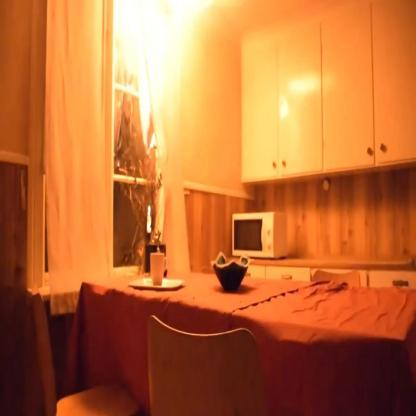fire: (113, 1, 219, 152), (147, 204, 152, 215)
